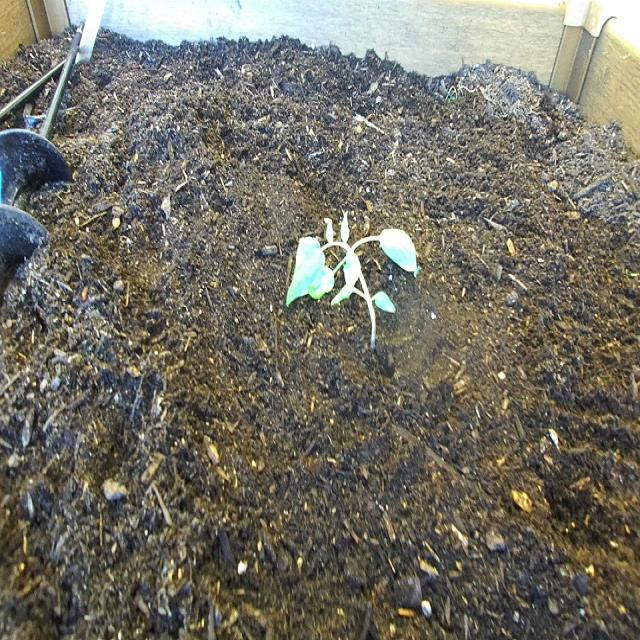Healthy: (281, 200, 424, 360)
